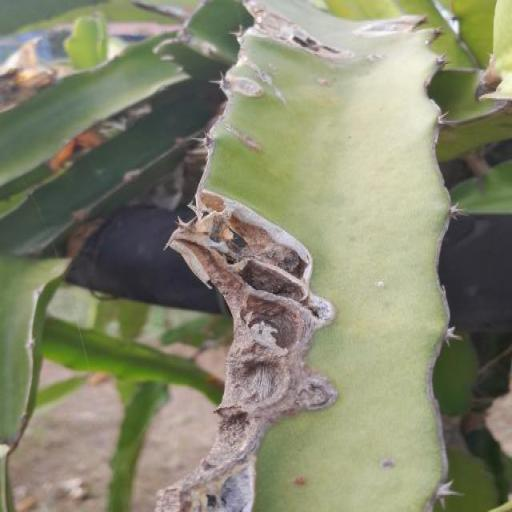stemcanker: (234, 119, 268, 163), (373, 449, 403, 482), (283, 468, 317, 494), (312, 68, 339, 94), (370, 267, 390, 294)
